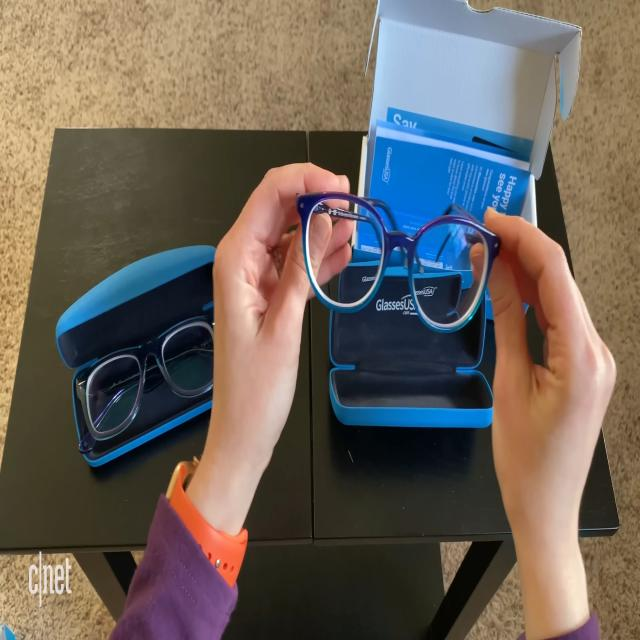dress: (109, 458, 243, 640)
glasses: (294, 182, 500, 342), (69, 306, 227, 446)
